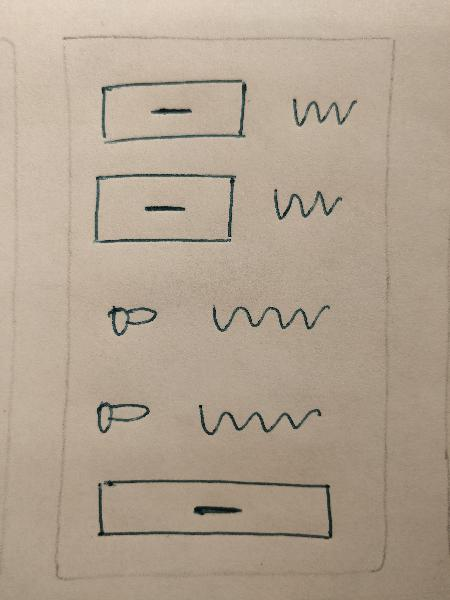button: (95, 470, 338, 552), (88, 168, 241, 255), (96, 72, 251, 148)
switch: (87, 394, 160, 444), (98, 292, 162, 339)
text: (187, 398, 330, 446), (208, 291, 330, 337), (260, 177, 346, 231), (281, 87, 359, 136)
